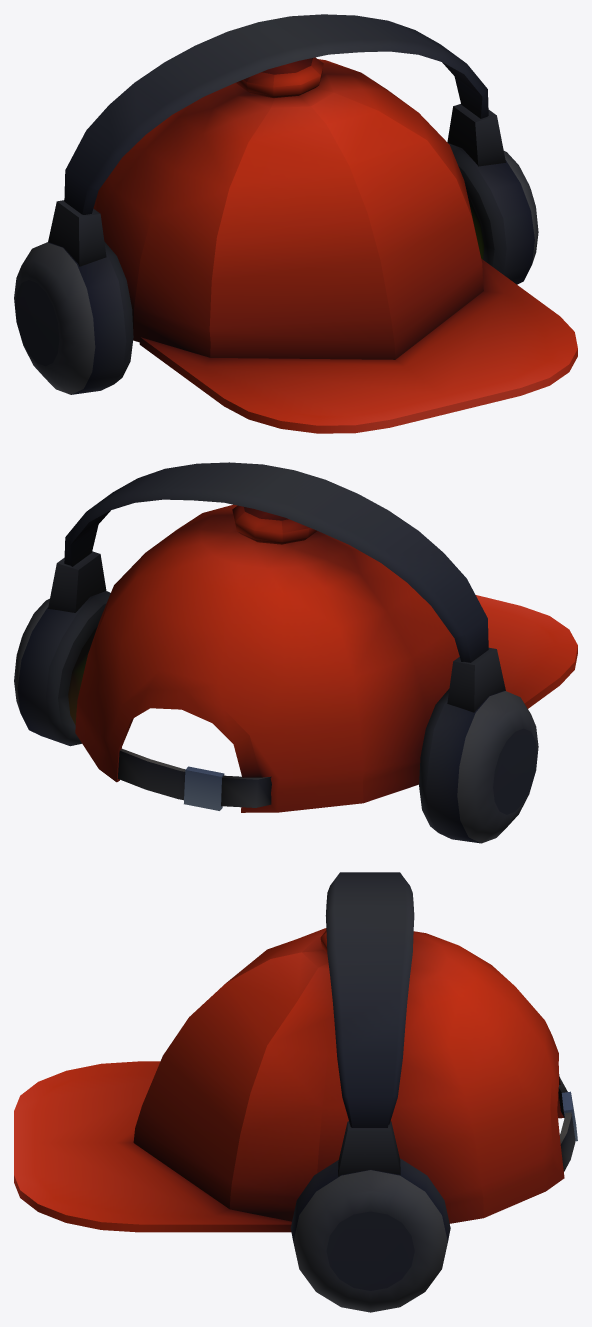
Rendered from BTLMN_Caps_A.glb.
The picture shows the model from 3 angles, top to bottom: view 1: azimuth 30°, elevation 25°; view 2: azimuth 150°, elevation 25°; view 3: azimuth 270°, elevation 25°; orthographic projection.
Parts seen in each view (by area): view 1: Cap_Baseball_Cap_Red_RA01; view 2: Cap_Baseball_Cap_Red_RA01; view 3: Cap_Baseball_Cap_Red_RA01.
Part boxes in pixels (x1,y1,x2,y2): Cap_Baseball_Cap_Red_RA01: (14, 14, 577, 433); Cap_Baseball_Cap_Red_RA01: (14, 462, 577, 843); Cap_Baseball_Cap_Red_RA01: (14, 872, 577, 1312).
Bounding box in the file's own units: 1.35 × 0.8165 × 1.38.
